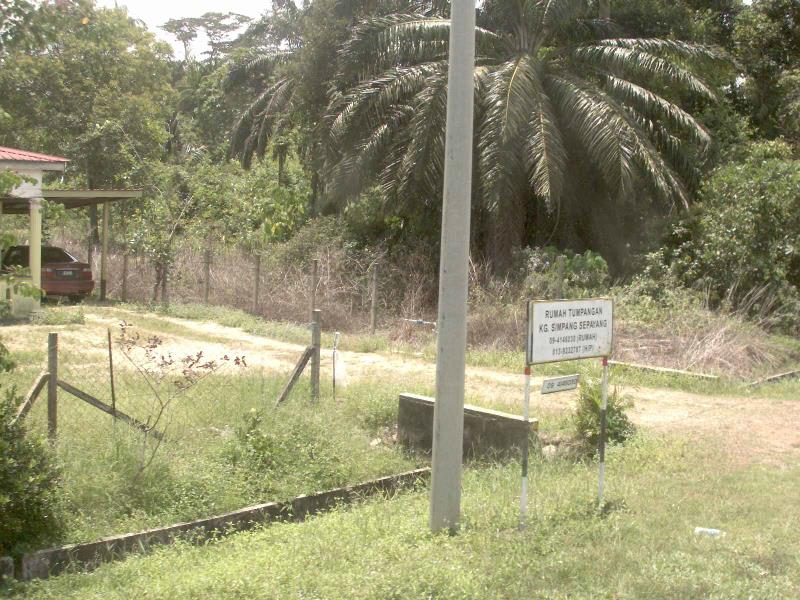ads_sign: (520, 293, 624, 369)
